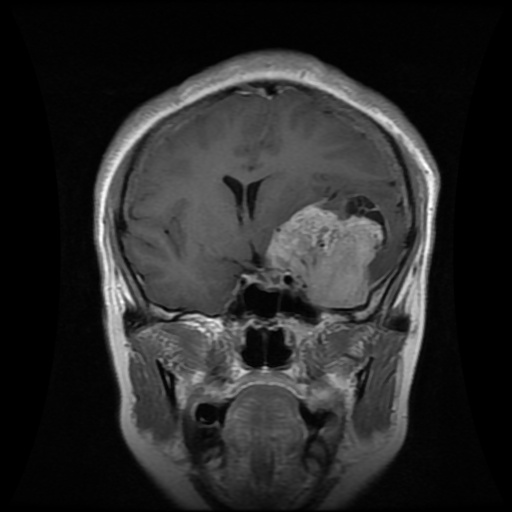meningioma: (263, 197, 387, 308)
